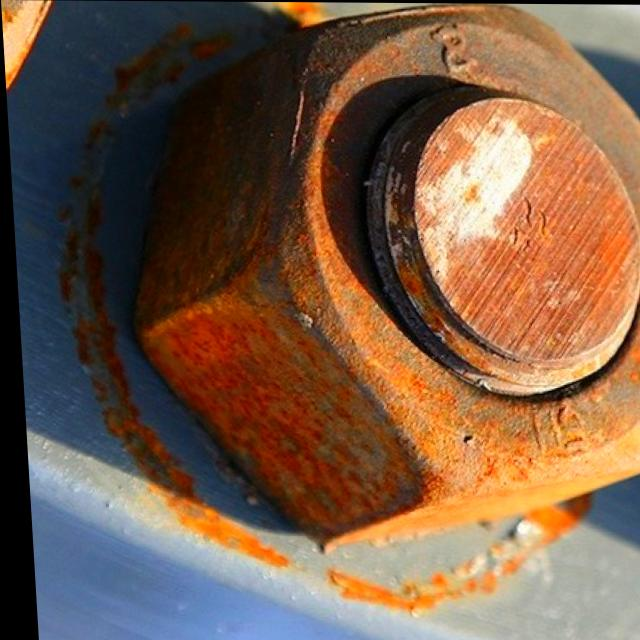Rusty bolt: (113, 2, 640, 541)
